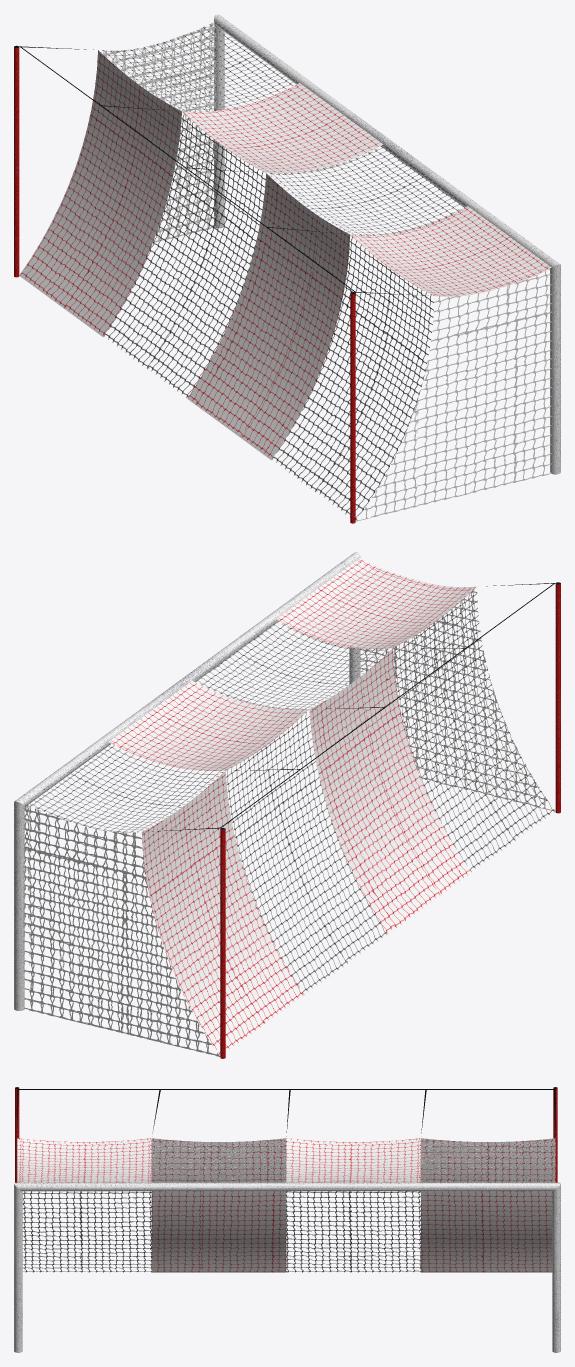
3 views of the same model, one above another, from view 1: azimuth 30°, elevation 25°; view 2: azimuth 150°, elevation 25°; view 3: azimuth 270°, elevation 25° (orthographic). The views are drawn at different scales.
Parts seen in each view (by area): view 1: SketchUp (×14); view 2: SketchUp (×14); view 3: SketchUp (×12).
Part boxes in pixels (bbox=[...]): SketchUp (×14): bbox=[14, 14, 560, 523]; SketchUp (×14): bbox=[14, 552, 560, 1058]; SketchUp (×12): bbox=[14, 1088, 560, 1352].
Bounding box in the file's own units: 106 × 298 × 110.
Materials: 8 (3 with a texture image).
